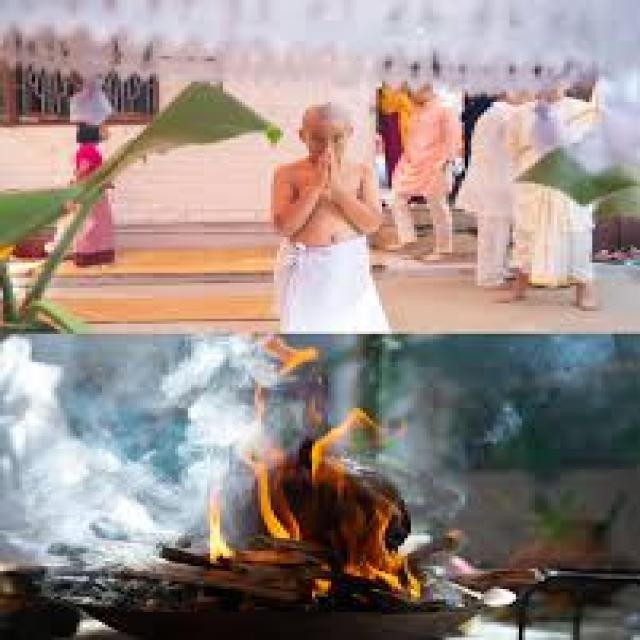fire: (337, 497, 423, 603), (308, 408, 377, 485), (248, 458, 301, 538), (206, 484, 234, 561)
